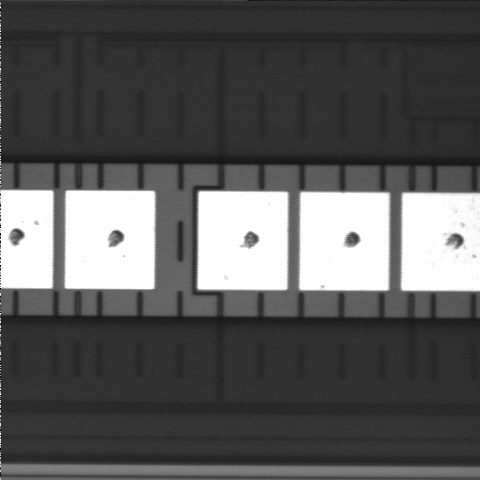pad: (198, 191, 288, 290), (65, 191, 155, 289), (300, 192, 389, 290)
